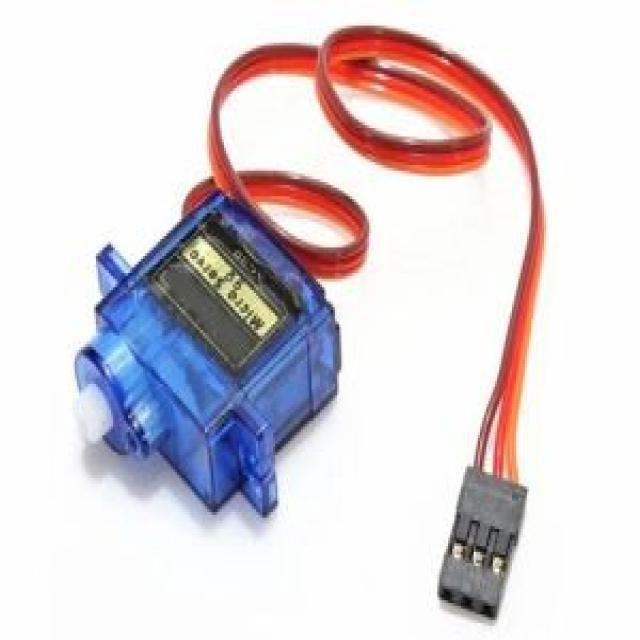motor: (67, 183, 347, 537)
